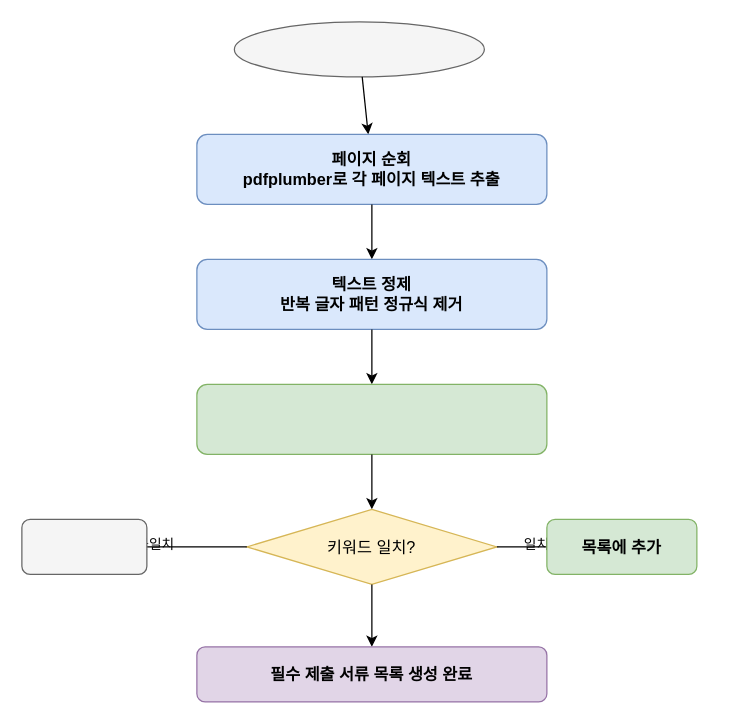
Image size: 729x724. Some labels were removed from this diagram. The centre of each missing label's shape, as x and y in pixels:
"건너뜀" goes at point (84, 546).
"공고문 PDF 업로드" goes at point (358, 49).
"키워드 대조 사전 정의 키워드 목록과 비교" goes at point (371, 418).
